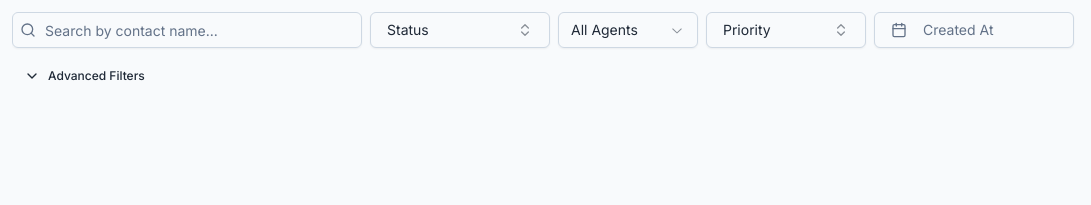
ChatViewFilters › Advanced Filters Collapsible (Feature 015: Chunk 1) › should collapse advanced filters when toggle button is clicked again
What coordinates should you click on to do the following:
click the button "Advanced Filters"
I would click on:
 (84, 76)
Its box is [12,60,157,92].
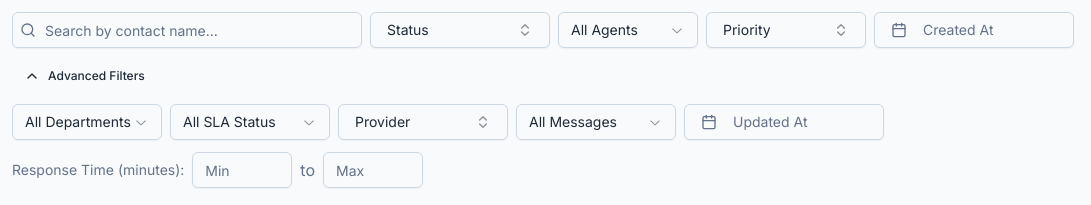
Expected: the text "Response Time (minutes):" is shown, [12,160,184,180]
What coordinates should you click on to do the following:
click the button "Advanced Filters"
I would click on:
 (84, 76)
Its box is [12,60,157,92].
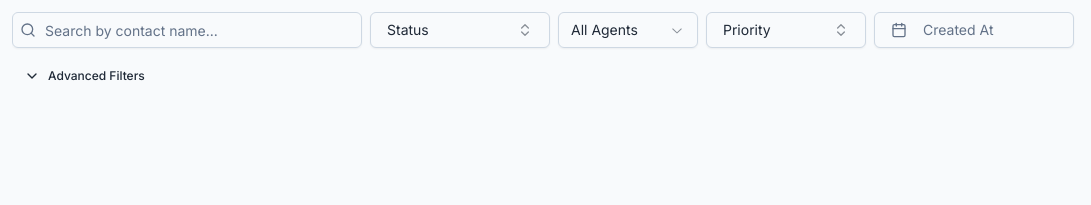
Expected: the text "Response Time (minutes):" is gone
